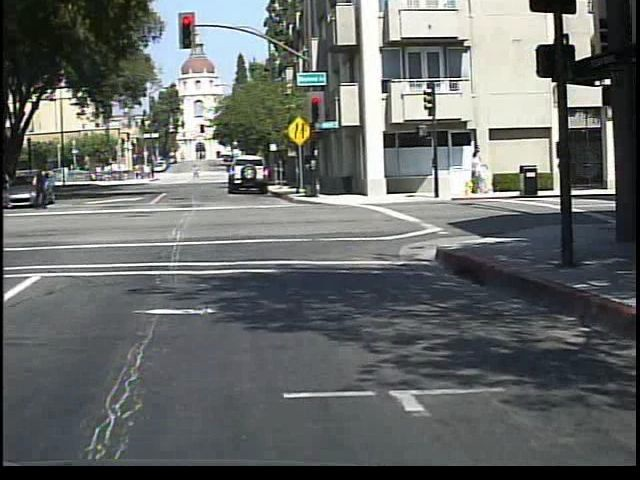person: (7, 168, 33, 221), (33, 165, 56, 208), (193, 163, 204, 181)
